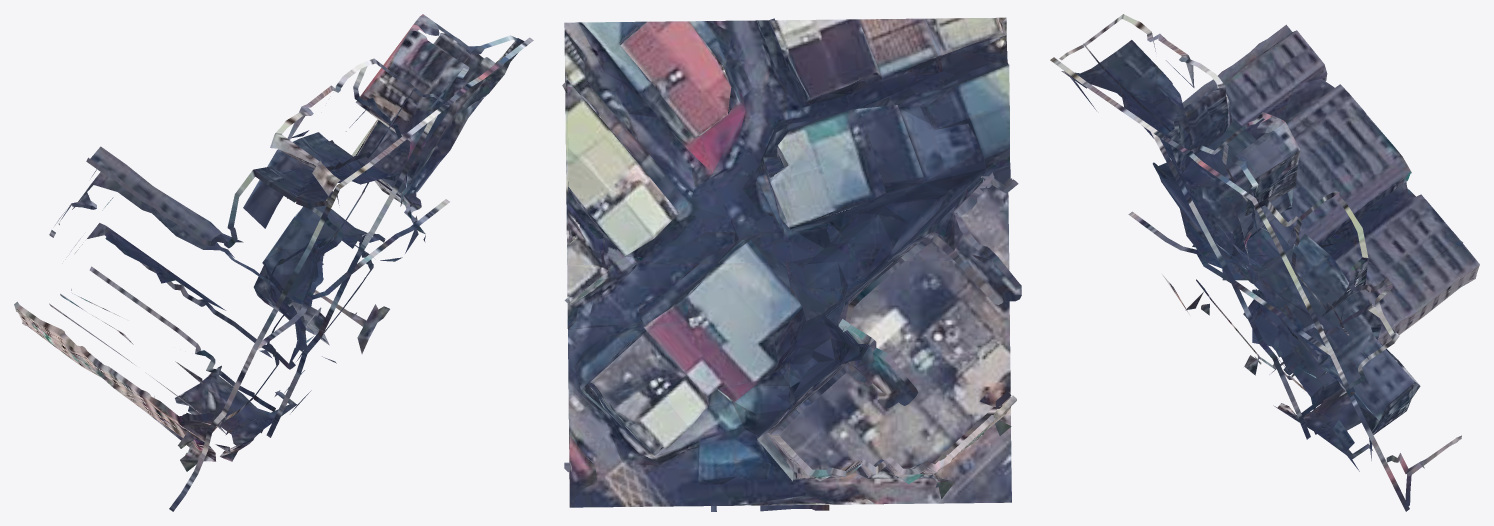
3 views of the same model, side by side, from view 1: azimuth 30°, elevation 25°; view 2: azimuth 150°, elevation 25°; view 3: azimuth 270°, elevation 25° (orthographic). The views are drawn at different scales.
Size of the model in its own units: 92.7 by 76 by 76.65.
Materials: 2 (2 with a texture image).
